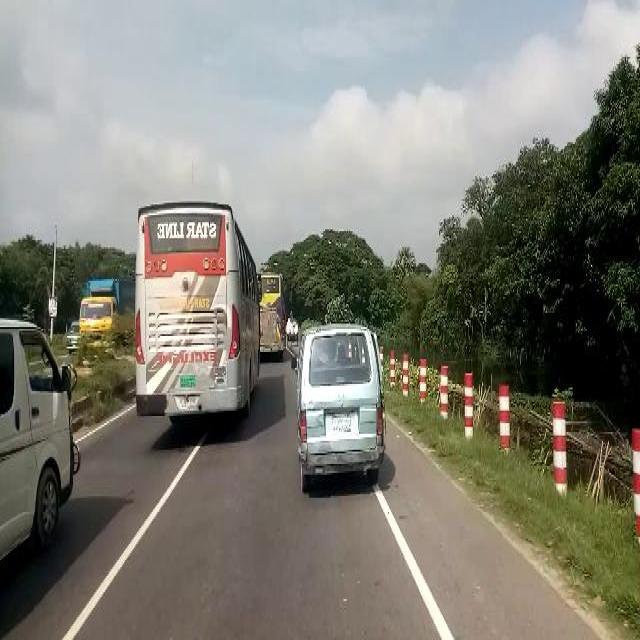Bus: (132, 201, 264, 424)
Micro-Bus: (1, 320, 81, 587), (289, 314, 396, 487)
